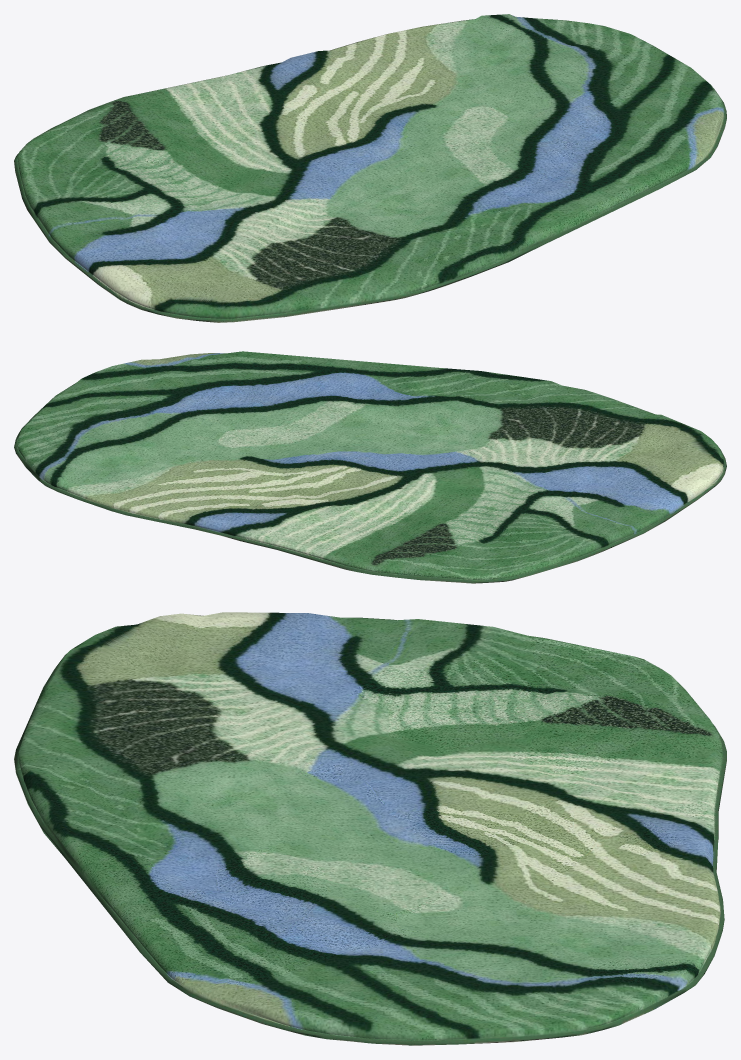
Rendered from grejsimojs_dywan_z_dugim_wosiem_00602001.glb.
3 views of the same model, one above another, from view 1: azimuth 30°, elevation 25°; view 2: azimuth 150°, elevation 25°; view 3: azimuth 270°, elevation 25° (orthographic). The views are drawn at different scales.
Parts seen in each view (by area): view 1: grejsimojs_dywan_z_dugim_wosiem_00602001; view 2: grejsimojs_dywan_z_dugim_wosiem_00602001; view 3: grejsimojs_dywan_z_dugim_wosiem_00602001.
Boxes of the visible parts, box(x1,y1,x2,y2) form: grejsimojs_dywan_z_dugim_wosiem_00602001: box(14, 14, 726, 322); grejsimojs_dywan_z_dugim_wosiem_00602001: box(14, 351, 726, 583); grejsimojs_dywan_z_dugim_wosiem_00602001: box(14, 612, 726, 1045).
Size of the model in its own units: 2.14 by 0.0338 by 1.52.
1 material, 1 textured.
